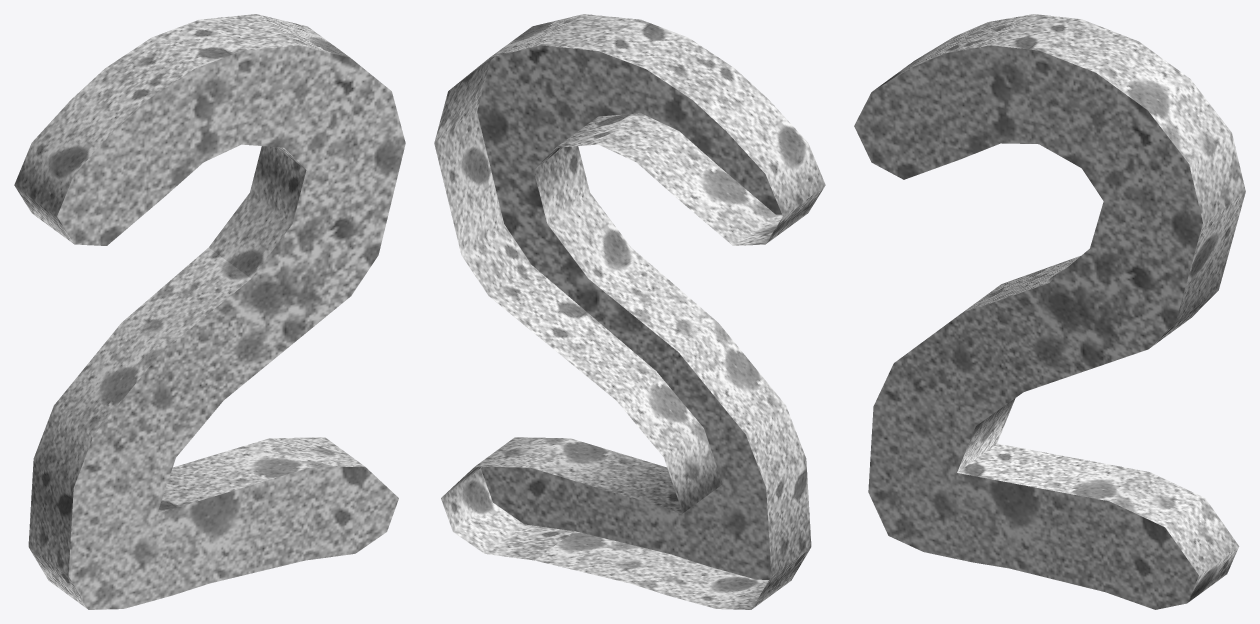
The model's file is Dos.FBX.
3 renders of one model, left to right at view 1: azimuth 30°, elevation 25°; view 2: azimuth 150°, elevation 25°; view 3: azimuth 330°, elevation 25°, orthographic.
Visible parts, largest first — view 1: Dos; view 2: Dos; view 3: Dos.
Boxes of the visible parts, box(x1,y1,x2,y2) form: Dos: box(14, 14, 405, 609); Dos: box(434, 14, 825, 609); Dos: box(854, 14, 1245, 609).
Size of the model in its own units: 1.26 by 1.83 by 0.2669.
